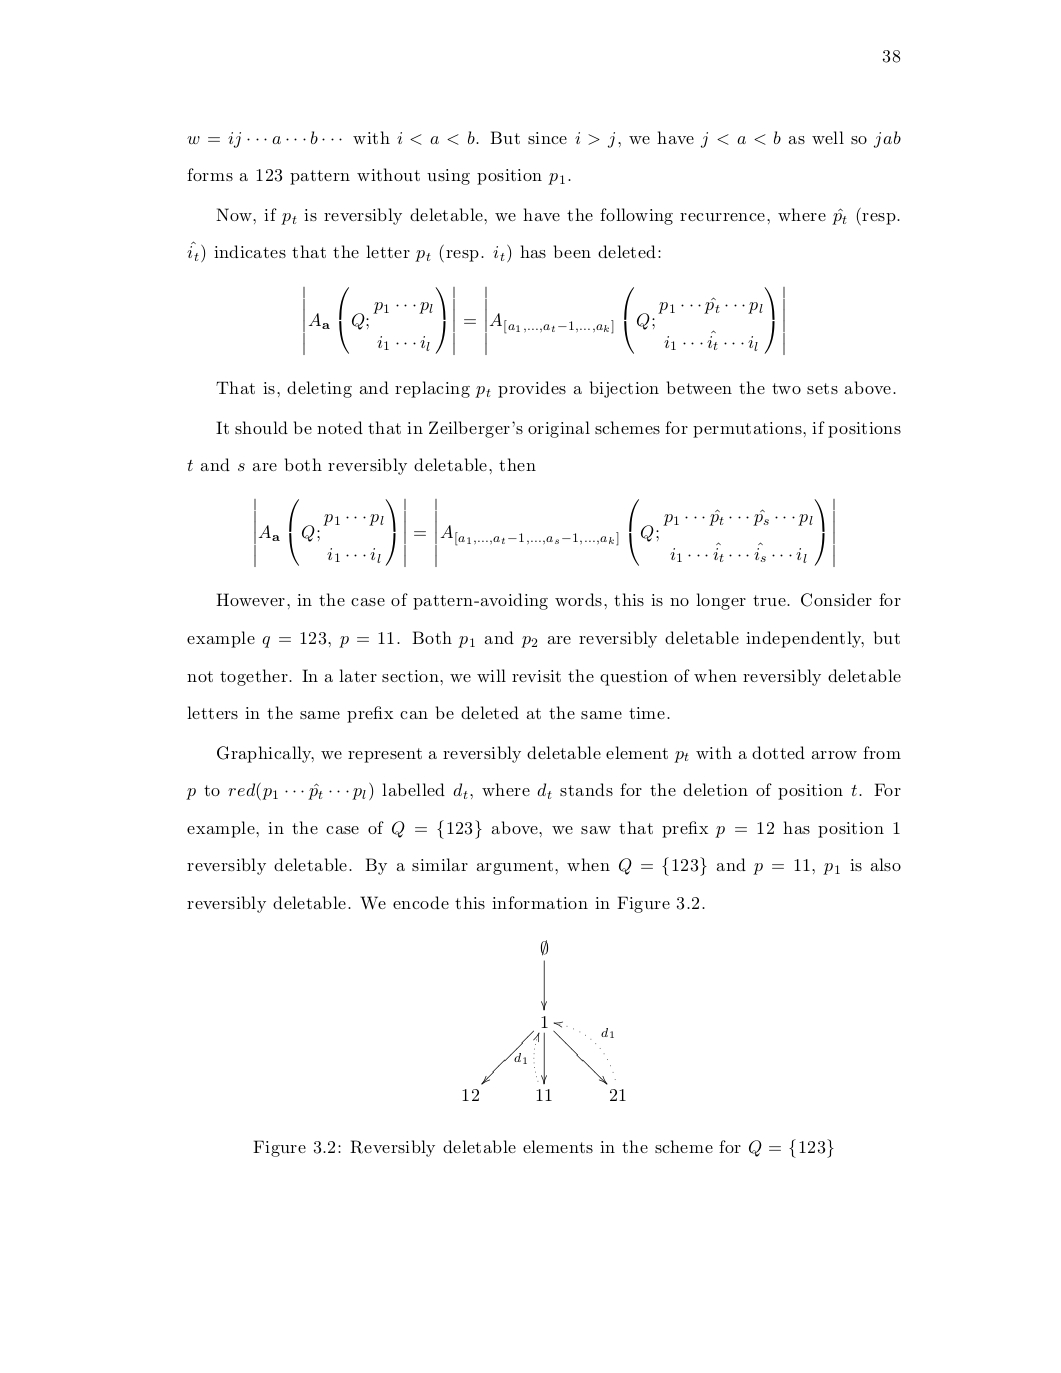figure: (463, 939, 625, 1100)
formula: (254, 497, 834, 567), (303, 285, 783, 356)
